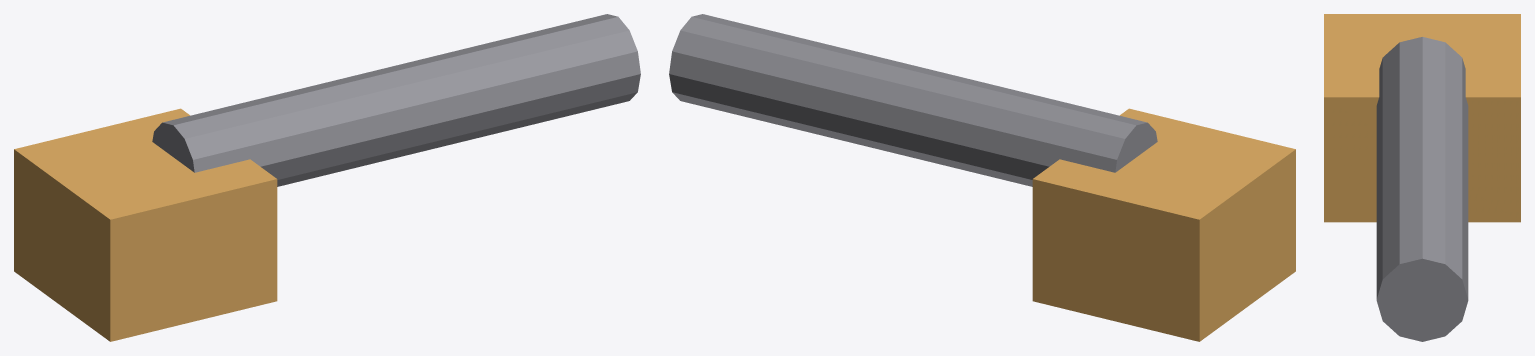
Rendered from turret.glb.
3 renders of one model, left to right at view 1: azimuth 30°, elevation 25°; view 2: azimuth 150°, elevation 25°; view 3: azimuth 270°, elevation 25°, orthographic. The views are drawn at different scales.
Parts seen in each view (by area): view 1: turret_body, turret_barrel; view 2: turret_body, turret_barrel; view 3: turret_barrel, turret_body.
Boxes of the visible parts, <box> form: turret_body: <box>14,108,277,341</box>; turret_barrel: <box>152,14,640,186</box>; turret_body: <box>1032,108,1295,341</box>; turret_barrel: <box>669,14,1157,186</box>; turret_barrel: <box>1376,37,1468,341</box>; turret_body: <box>1324,14,1520,222</box>.
Bounding box in the file's own units: 1 × 0.265 × 0.3.
